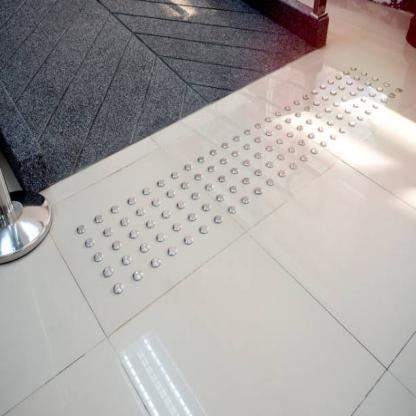podotacti: (73, 60, 407, 298)
